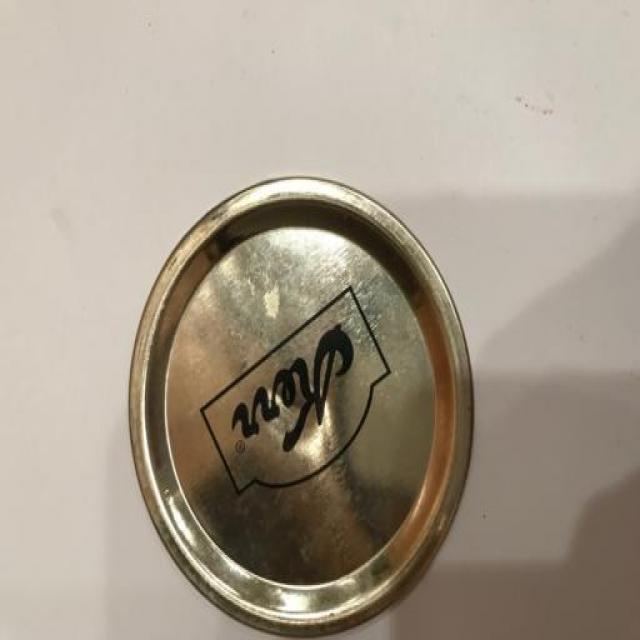metel: (113, 142, 494, 640)
